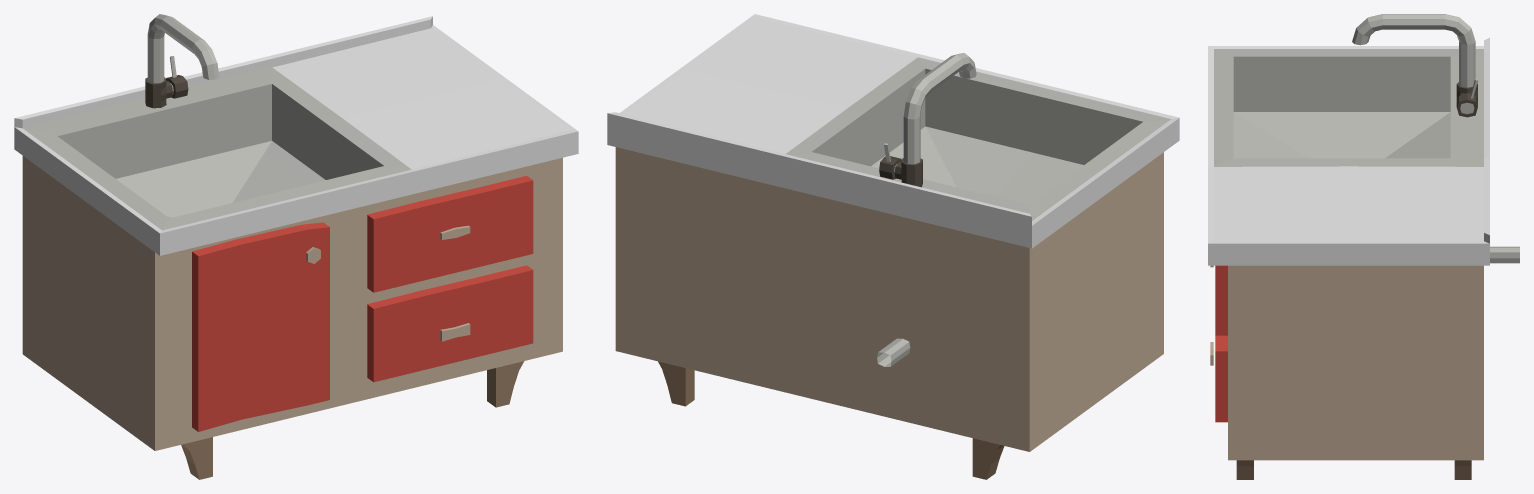
The model's file is Sink Table.fbx.
3 renders of one model, left to right at view 1: azimuth 30°, elevation 25°; view 2: azimuth 150°, elevation 25°; view 3: azimuth 270°, elevation 25°, orthographic. The views are drawn at different scales.
Parts seen in each view (by area): view 1: Sink Table; view 2: Sink Table; view 3: Sink Table.
Boxes of the visible parts, box(x1,y1,x2,y2) form: Sink Table: box(14, 14, 578, 479); Sink Table: box(607, 14, 1179, 479); Sink Table: box(1208, 14, 1519, 479).
Size of the model in its own units: 171 by 143 by 114.
